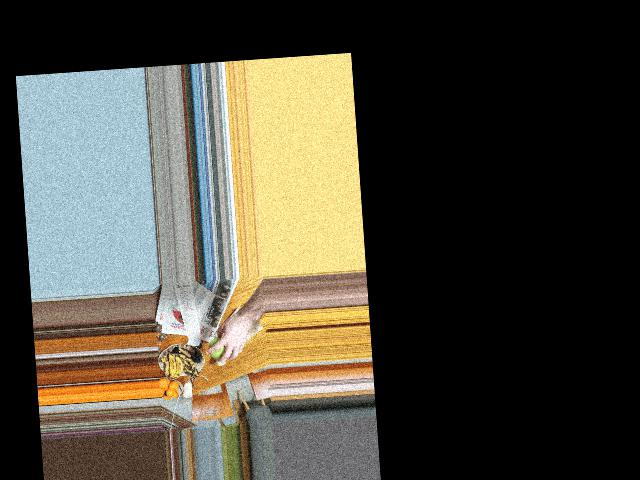apple: (208, 334, 233, 361)
